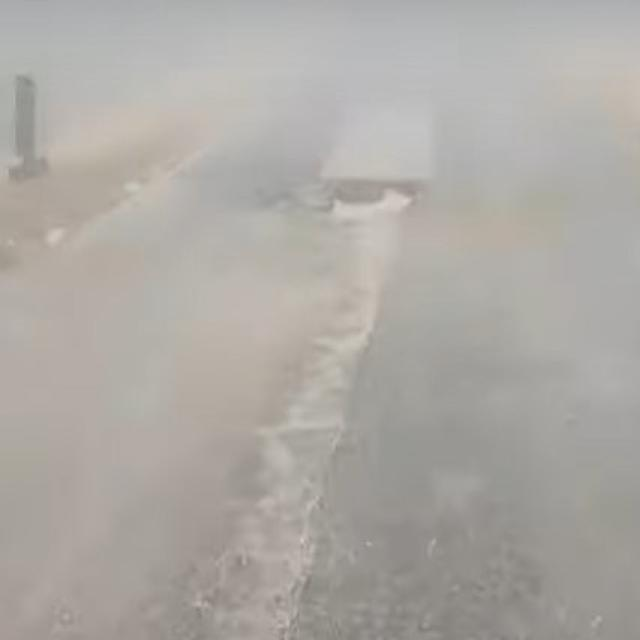major_pothole: (307, 174, 418, 226)
